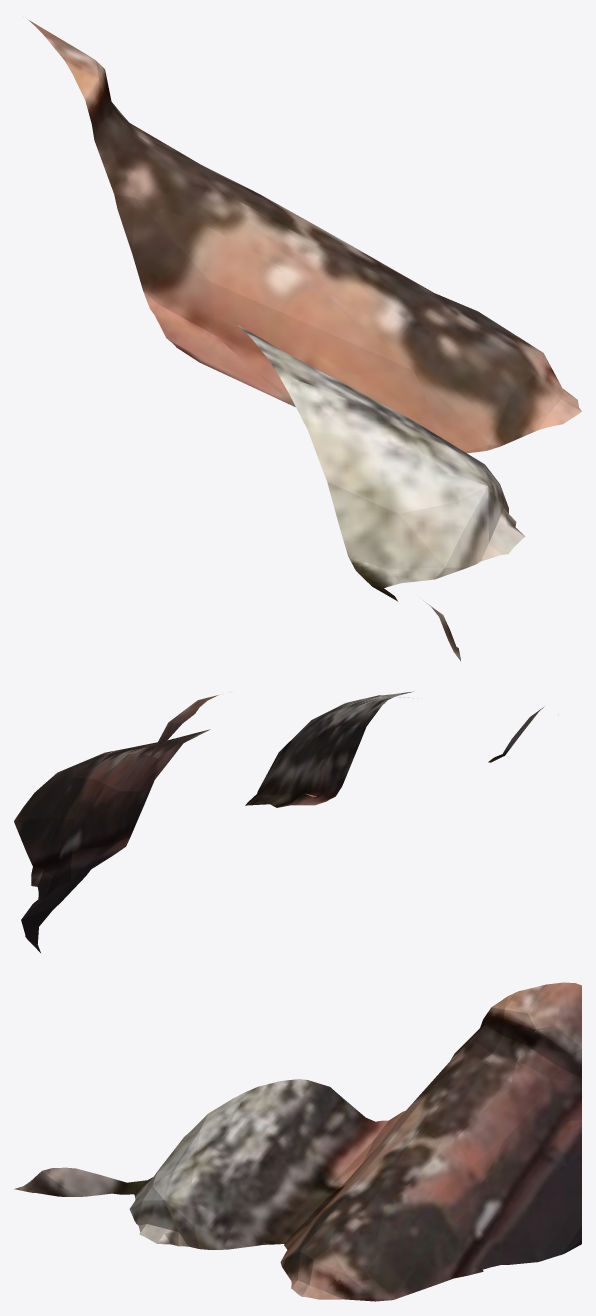
3 views of the same model, one above another, from view 1: azimuth 30°, elevation 25°; view 2: azimuth 150°, elevation 25°; view 3: azimuth 270°, elevation 25° (orthographic). The views are drawn at different scales.
Size of the model in its own units: 0.2924 by 0.2507 by 0.6245.
1 material, 1 textured.
